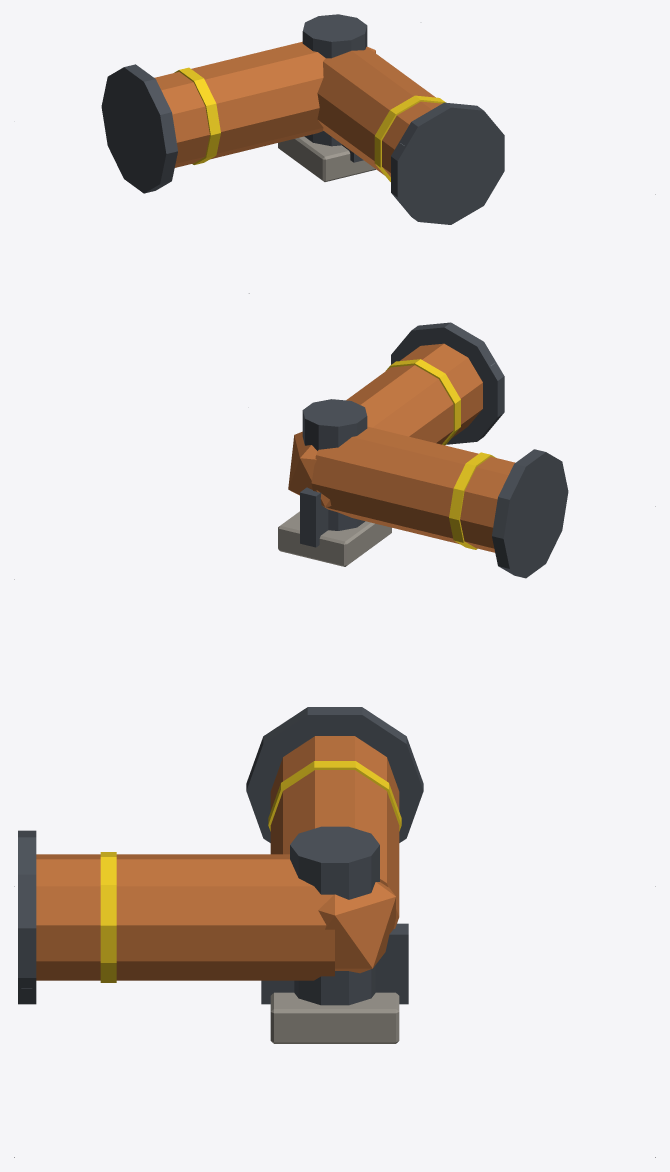
The model's file is tuyau_coude_t1.glb.
The picture shows the model from 3 angles, top to bottom: view 1: azimuth 30°, elevation 25°; view 2: azimuth 150°, elevation 25°; view 3: azimuth 270°, elevation 25°; orthographic projection. The views are drawn at different scales.
Visible parts, largest first — view 1: pieces_cuivre.016, pieces_acier_sombre.044, pieces_beton.044, pieces_rive_t1.014; view 2: pieces_cuivre.016, pieces_acier_sombre.044, pieces_beton.044, pieces_rive_t1.014; view 3: pieces_cuivre.016, pieces_acier_sombre.044, pieces_beton.044, pieces_rive_t1.014.
Part boxes in pixels (<box>): pieces_cuivre.016: <box>154,41,441,176</box>; pieces_acier_sombre.044: <box>101,14,504,224</box>; pieces_beton.044: <box>278,136,375,181</box>; pieces_rive_t1.014: <box>174,67,445,181</box>; pieces_cuivre.016: <box>288,343,515,552</box>; pieces_acier_sombre.044: <box>300,322,568,578</box>; pieces_beton.044: <box>278,511,391,566</box>; pieces_rive_t1.014: <box>386,359,495,549</box>; pieces_cuivre.016: <box>36,736,399,980</box>; pieces_acier_sombre.044: <box>18,707,423,1005</box>; pieces_beton.044: <box>270,992,399,1043</box>; pieces_rive_t1.014: <box>100,761,401,982</box>.
Size of the model in its own units: 1 by 0.318 by 1.
